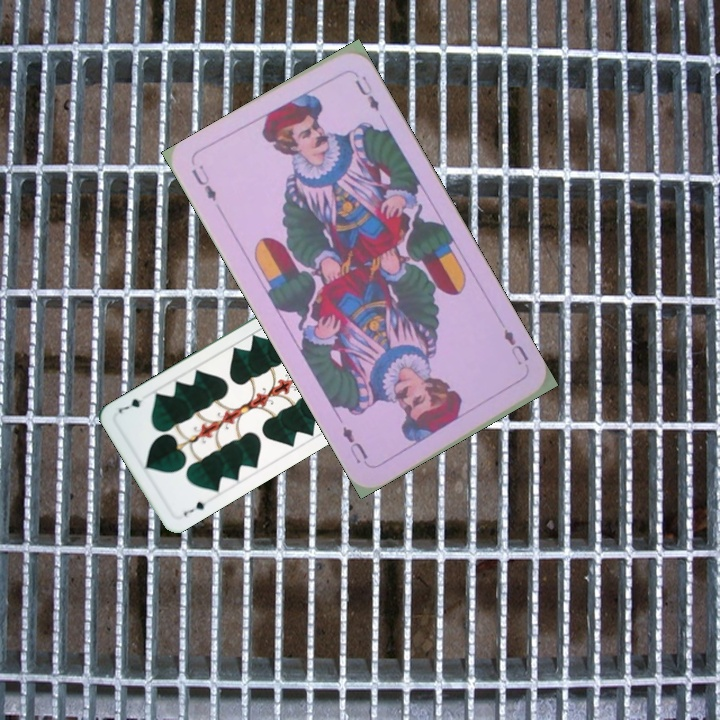EU: (499, 324, 532, 368), (187, 160, 219, 205)
G7: (179, 497, 208, 519)
